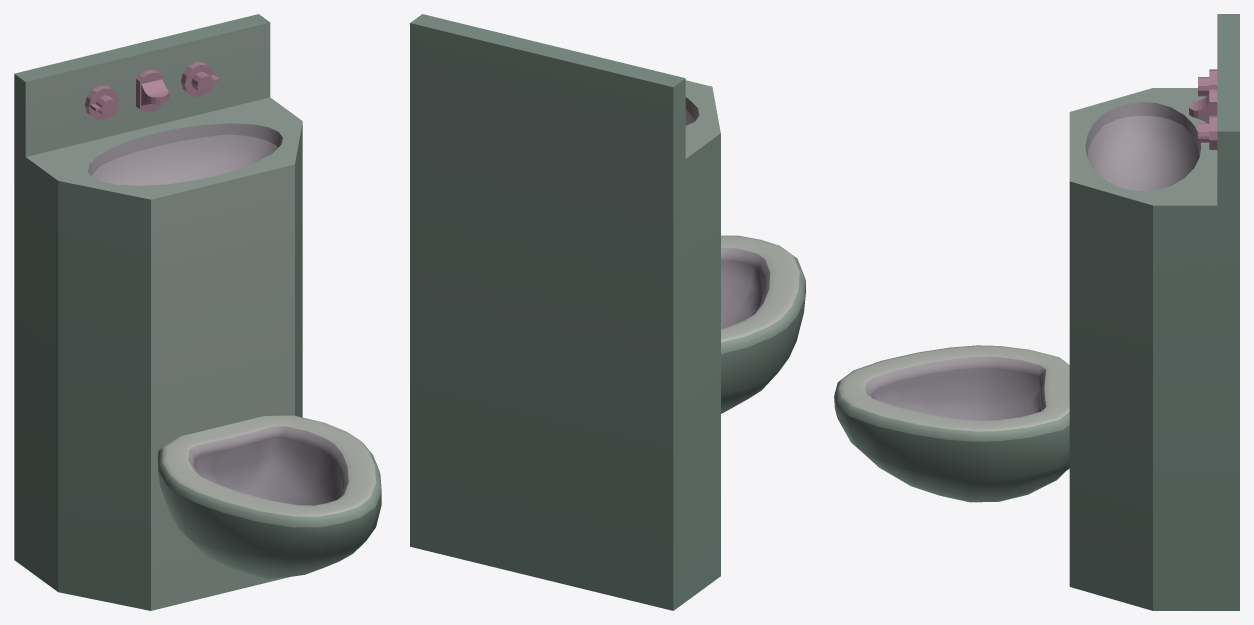
File: toilet break.fbx
3 renders of one model, left to right at view 1: azimuth 30°, elevation 25°; view 2: azimuth 150°, elevation 25°; view 3: azimuth 270°, elevation 25°, orthographic. The views are drawn at different scales.
Visible parts, largest first — view 1: polySurface41, polySurface45, polySurface48, polySurface47; view 2: polySurface45, polySurface41, polySurface47, polySurface48; view 3: polySurface41, polySurface48, polySurface47, polySurface45.
Boxes of the visible parts, left/top/right/bottom form: polySurface41: left=14, top=14, right=302, bottom=285; polySurface45: left=14, top=225, right=302, bottom=500; polySurface48: left=157, top=415, right=381, bottom=579; polySurface47: left=14, top=396, right=302, bottom=610; polySurface45: left=410, top=204, right=720, bottom=529; polySurface41: left=410, top=14, right=720, bottom=276; polySurface47: left=410, top=415, right=720, bottom=610; polySurface48: left=721, top=235, right=805, bottom=413; polySurface41: left=1069, top=14, right=1239, bottom=363; polySurface48: left=834, top=345, right=1069, bottom=502; polySurface47: left=1069, top=445, right=1239, bottom=610; polySurface45: left=1069, top=301, right=1239, bottom=490.
Bounding box in the file's own units: 238 × 452 × 347.
Materials: 1 (1 with a texture image).
